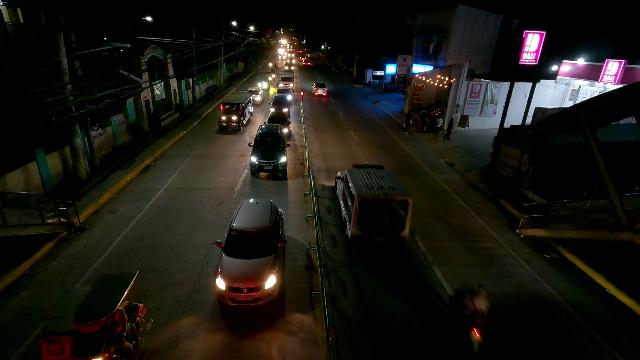car: (215, 198, 286, 319), (248, 123, 290, 179), (265, 109, 292, 139), (269, 94, 293, 120), (244, 86, 264, 105), (277, 72, 295, 91), (274, 86, 294, 103), (312, 81, 328, 95), (255, 78, 270, 91), (285, 63, 295, 72), (302, 59, 310, 67)
jeepney: (218, 91, 253, 130)
van: (335, 165, 413, 239)
